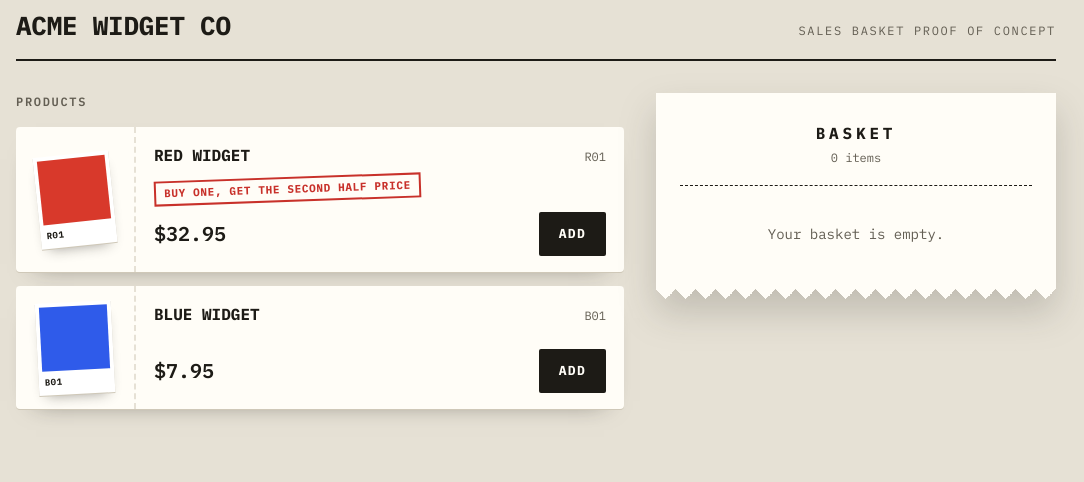
Scenario: App › stamps free delivery only on a quote for a non-empty basket
Click the button with aria-label "Add Red Widget to basket".
click(572, 234)  # box x1=539 y1=212 x2=606 y2=256
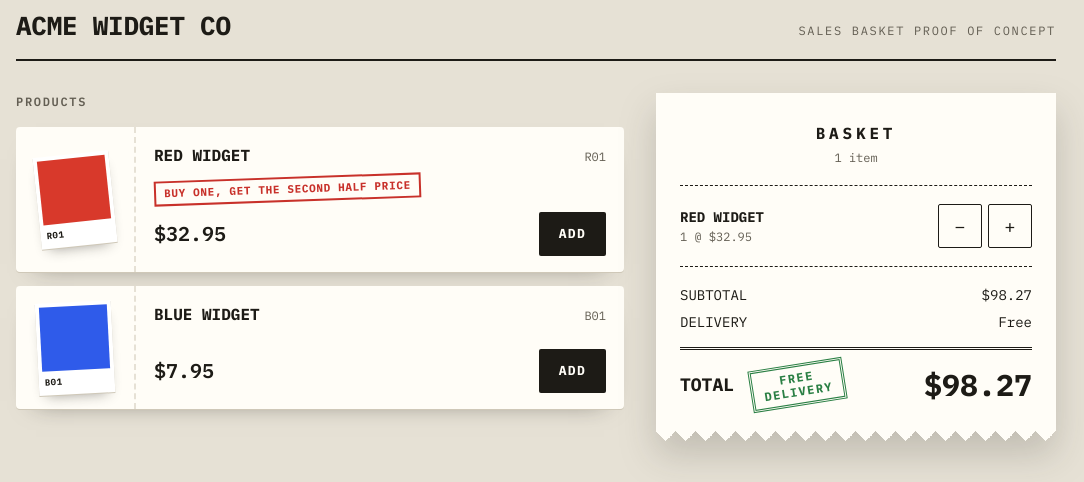
expect the element with class "free-stamp" is shown: met, box x1=747 y1=356 x2=848 y2=412
